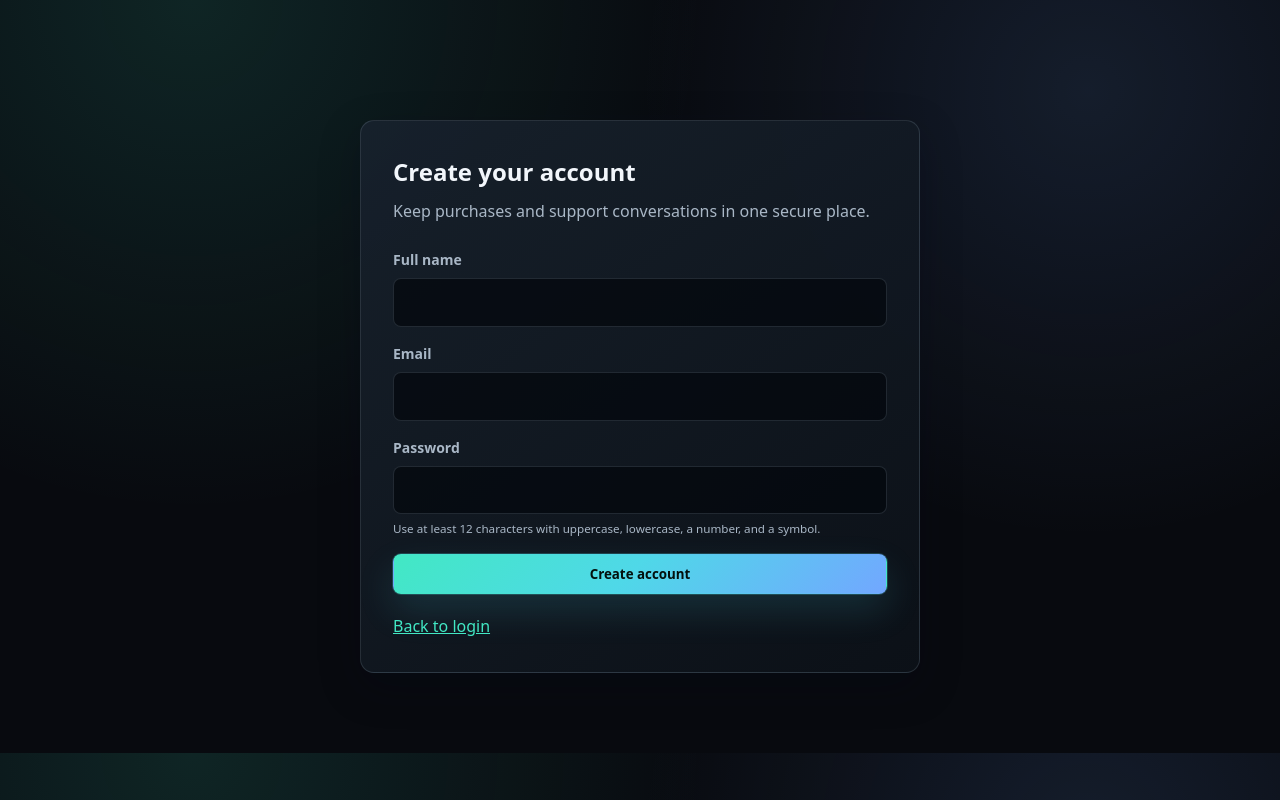
Test: rejects a weak registration password before contacting the provider
Type "customer@example.test" into the field labelled "Email" at (640, 396), box [393,372,887,421]
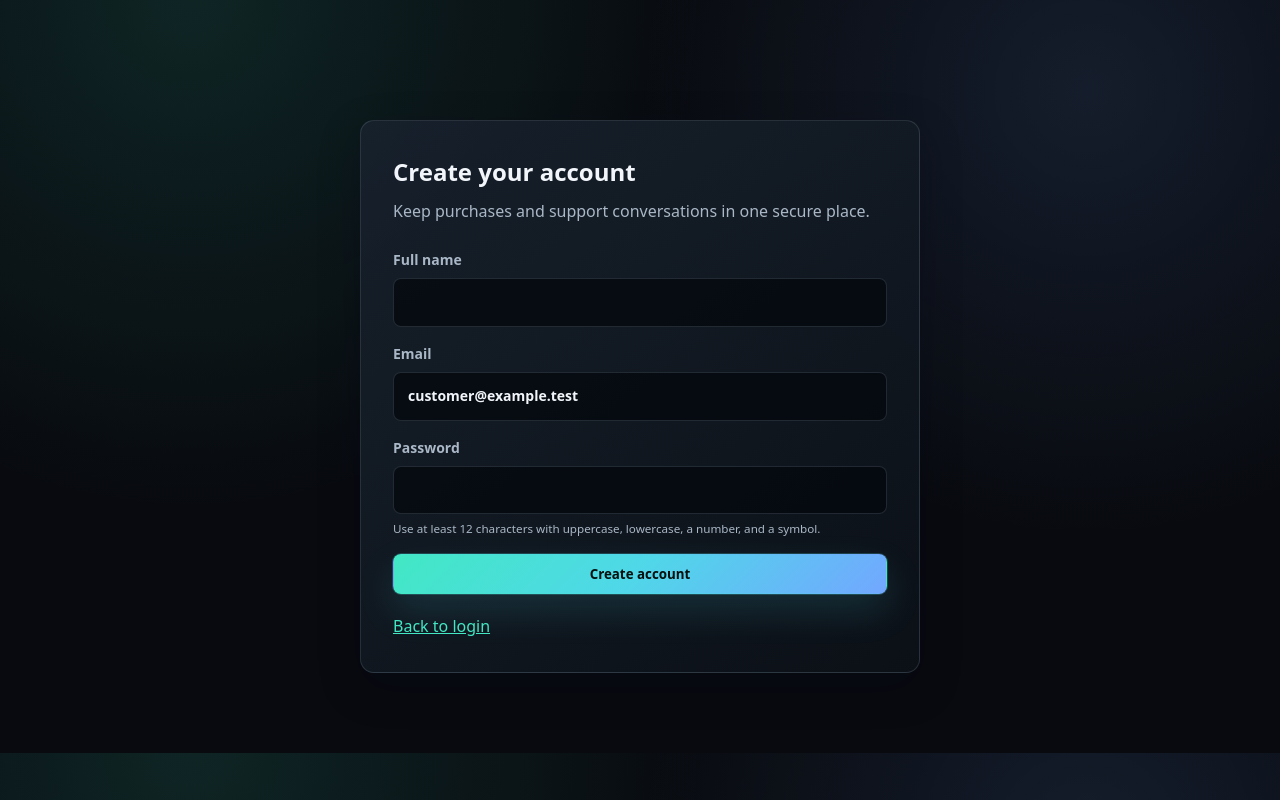
Type "Fixture Customer" into the field labelled "Full name" at (640, 303), box [393,278,887,327]
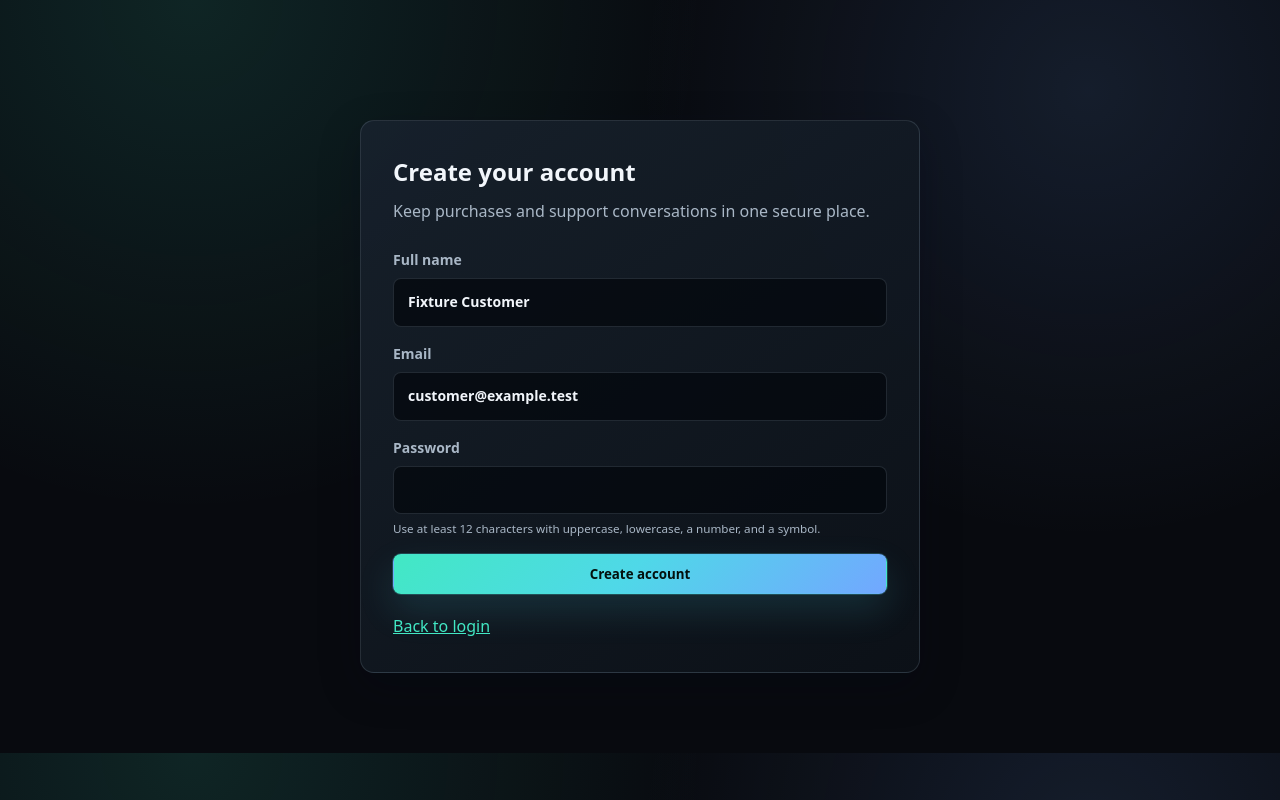
Type "weakpassword" into the password field labelled "Password" at (640, 490), box [393,466,887,514]
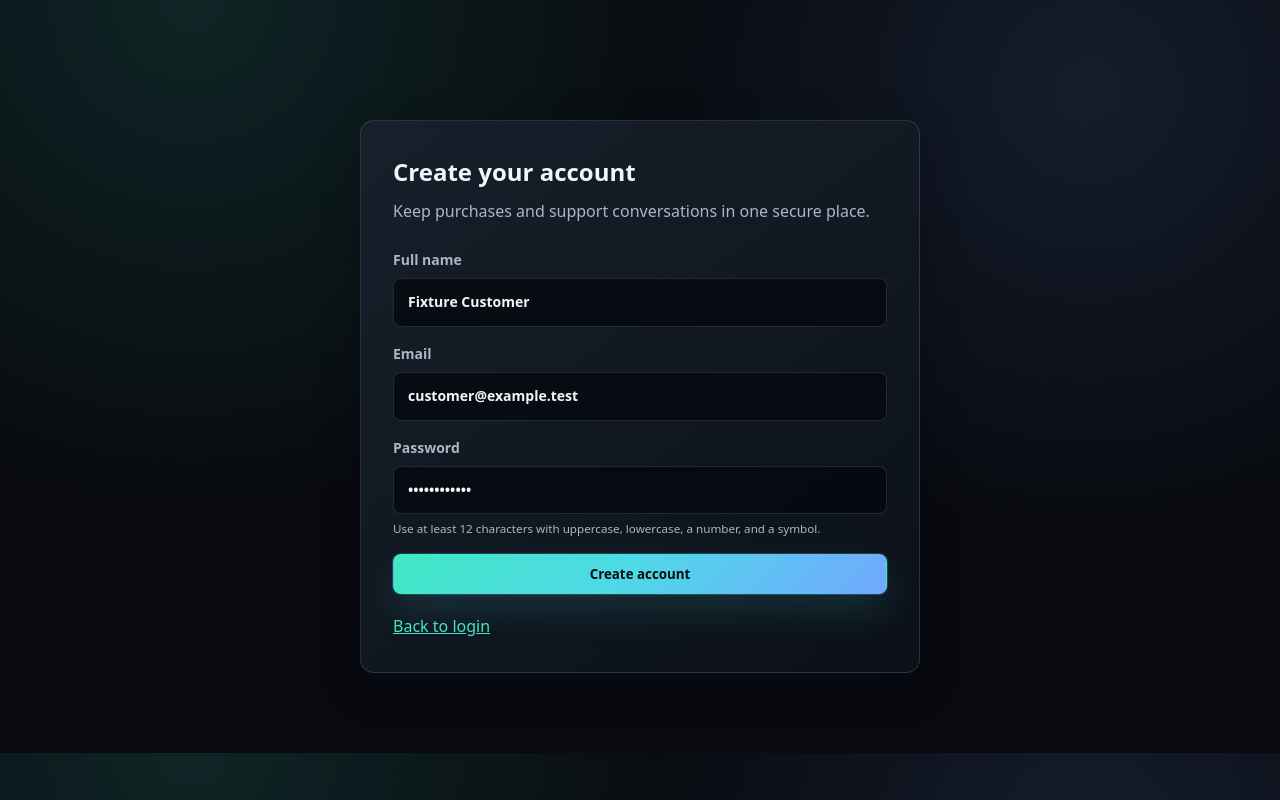
Submit the form labelled "Email", box [393,249,887,594]
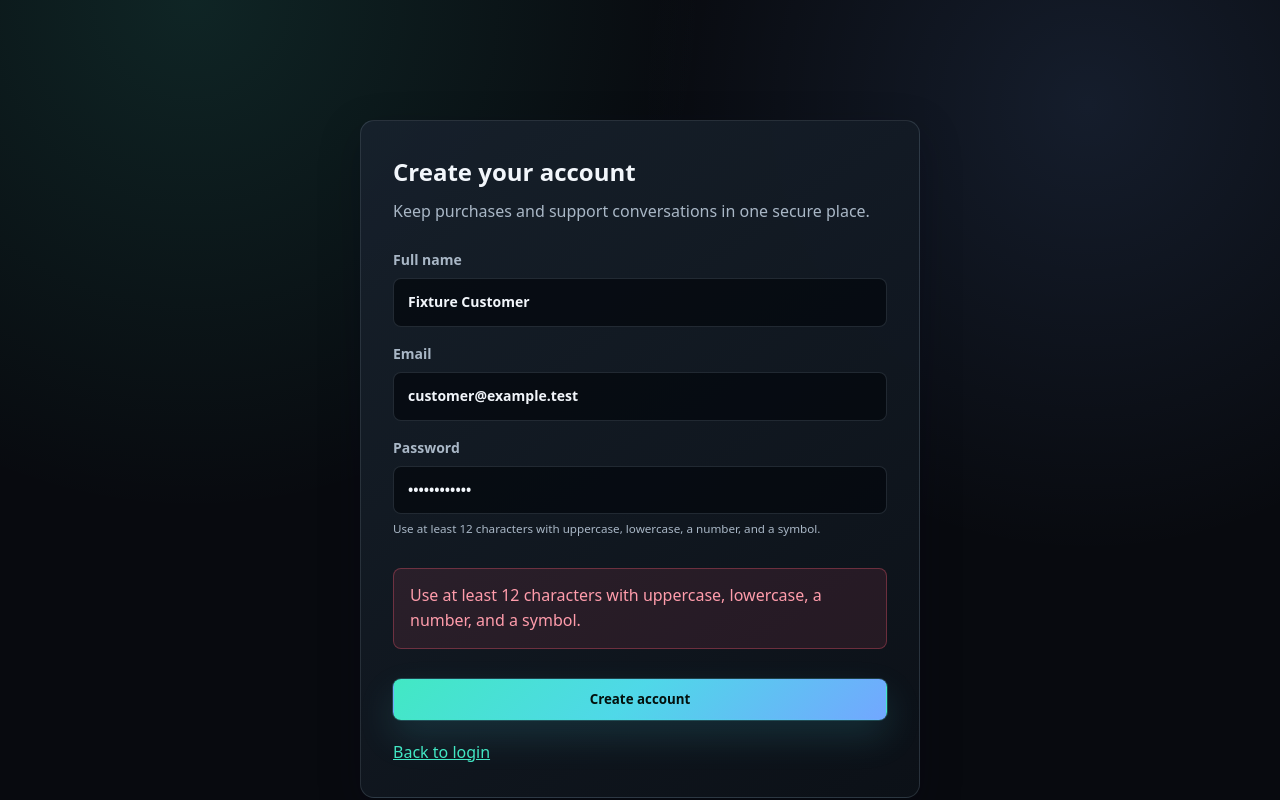
Expected: the message "Use at least 12 characters with uppercase, lowercase, a number, and a symbol." is shown, [393,568,887,649]
Expected: the message shows "uppercase", [410,584,822,631]
